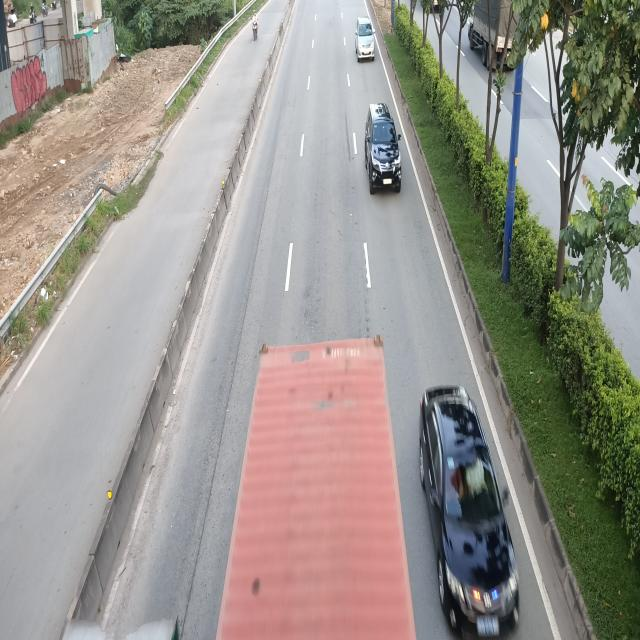car: (415, 382, 517, 634), (362, 102, 400, 192), (356, 15, 376, 59)
container: (216, 343, 415, 640)
